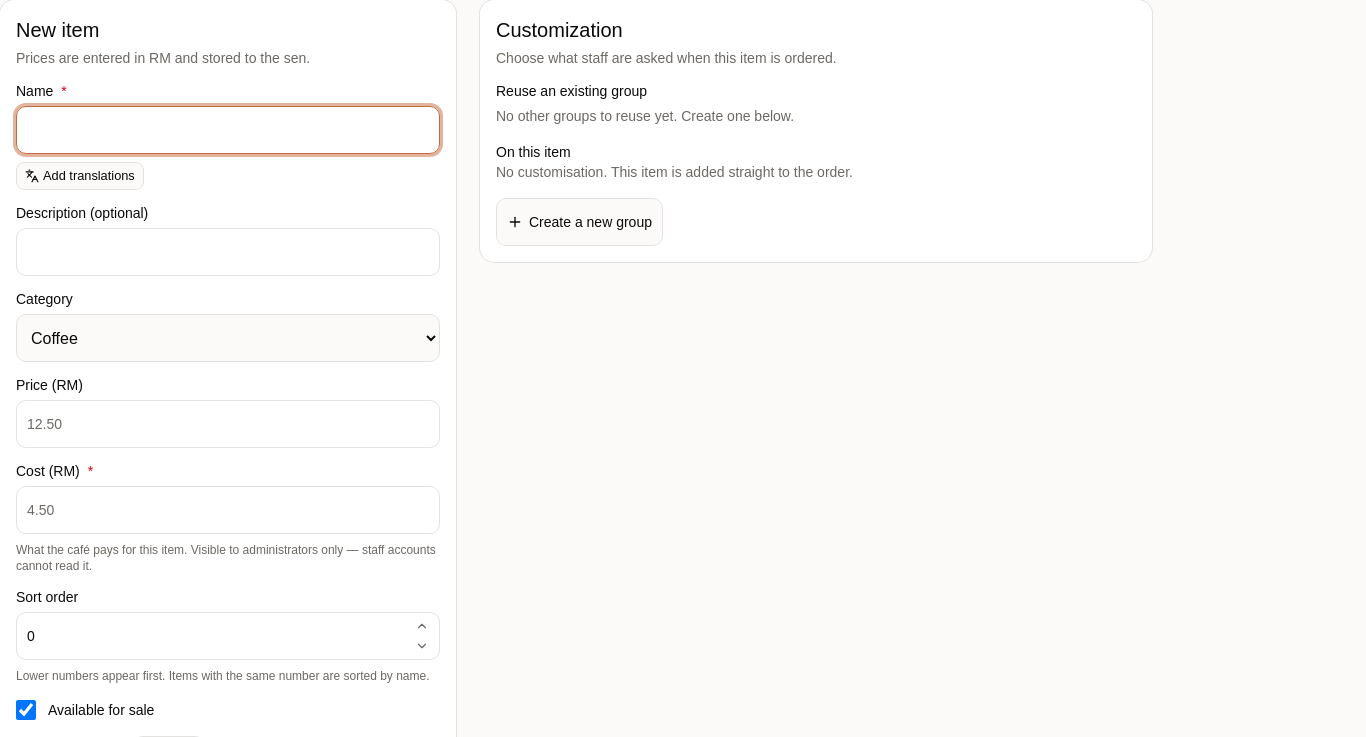
Test case: the arrows › adds one
Step 1. Click the button with test id "sort-order-increase" → x=422, y=626, box x1=408 y1=616 x2=436 y2=636
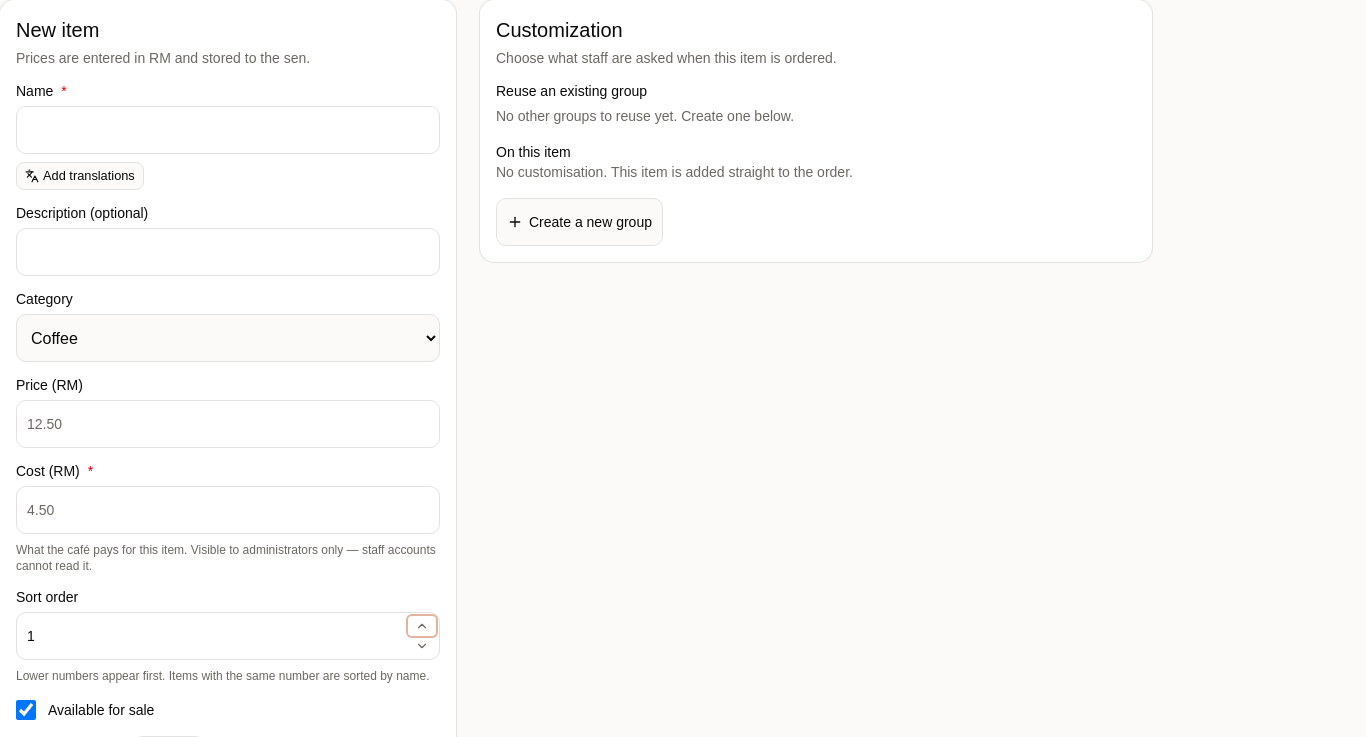
Now the number field labelled "Sort order" holds "1", box x1=16 y1=612 x2=440 y2=660
Step 2. Click the button with test id "sort-order-increase" → x=422, y=626, box x1=408 y1=616 x2=436 y2=636
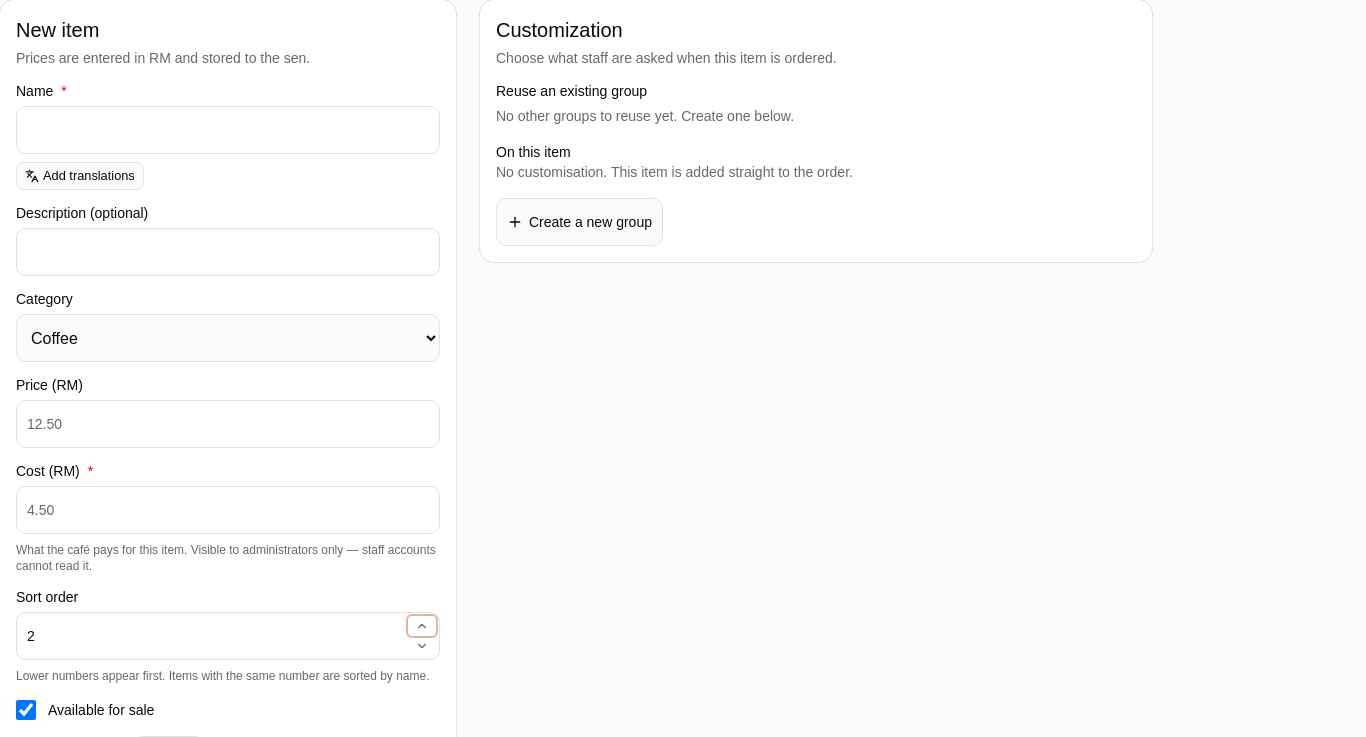
Now the number field labelled "Sort order" holds "2", box x1=16 y1=612 x2=440 y2=660
